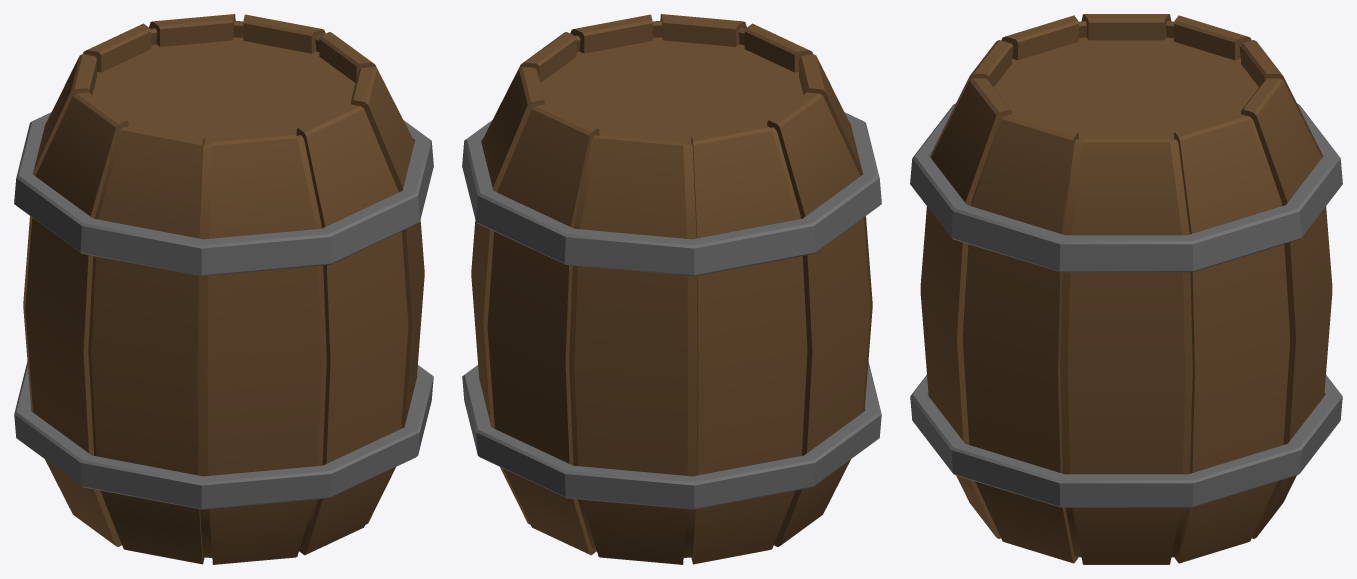
The model's file is Fass.fbx.
3 views of the same model, side by side, from view 1: azimuth 30°, elevation 25°; view 2: azimuth 150°, elevation 25°; view 3: azimuth 270°, elevation 25° (orthographic).
Visible parts, largest first — view 1: Holz; view 2: Holz; view 3: Holz.
Part boxes in pixels (x1,y1,x2,y2): Holz: [14, 14, 433, 564]; Holz: [462, 14, 881, 564]; Holz: [910, 14, 1342, 564].
Bounding box in the file's own units: 261 × 298 × 275.
